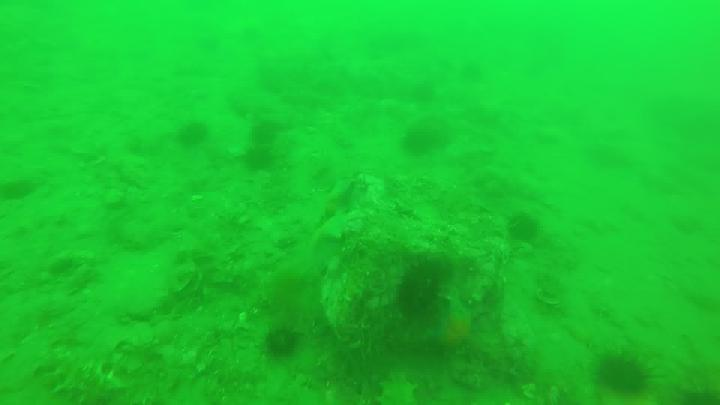echinus: (594, 353, 656, 394), (404, 262, 441, 320), (403, 124, 449, 152), (265, 325, 302, 355), (507, 212, 537, 246), (180, 124, 212, 150), (251, 124, 275, 144), (246, 152, 270, 170)
holothurian: (40, 350, 120, 405), (374, 370, 423, 405)
